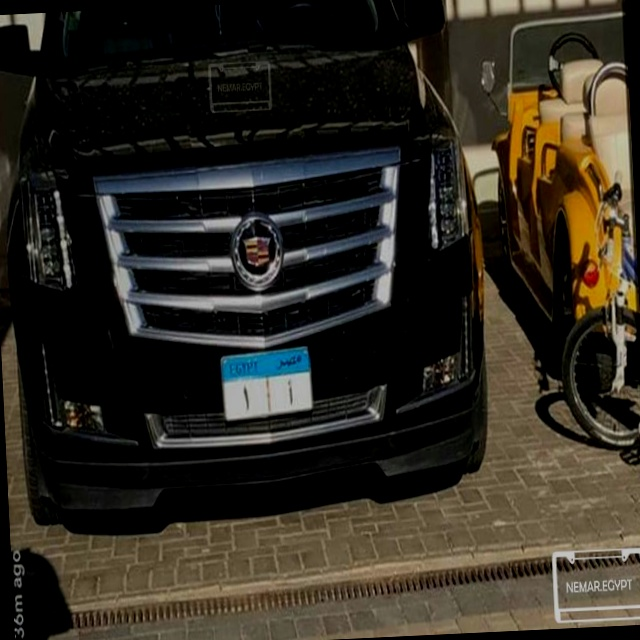License Plate: (216, 343, 317, 427)
